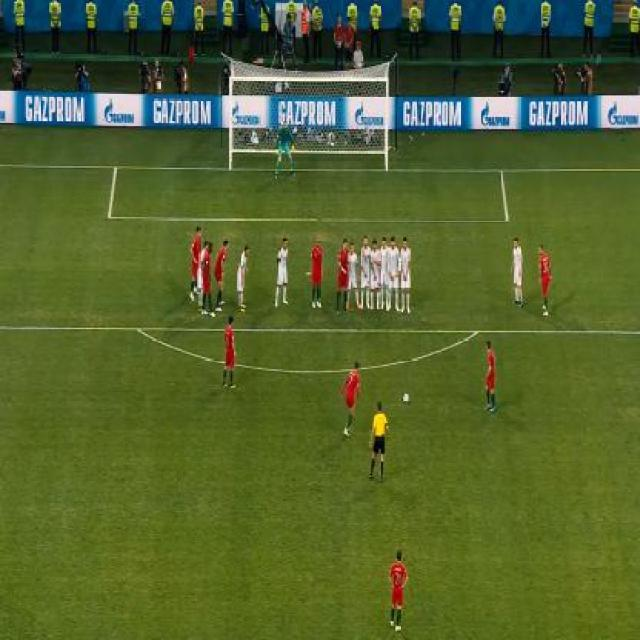ball: (402, 390, 411, 406)
player: (386, 546, 409, 634), (368, 398, 391, 484), (340, 358, 362, 440), (273, 115, 299, 183), (536, 239, 555, 319), (221, 315, 240, 392), (482, 337, 501, 414), (212, 237, 231, 313), (274, 236, 293, 310), (510, 233, 527, 309), (335, 237, 351, 313), (399, 233, 413, 318), (308, 236, 324, 310), (235, 243, 251, 314), (388, 234, 401, 313), (359, 239, 373, 310), (189, 226, 202, 300), (346, 240, 359, 313), (196, 241, 207, 317), (379, 237, 390, 311), (370, 238, 381, 311), (204, 240, 212, 317)
